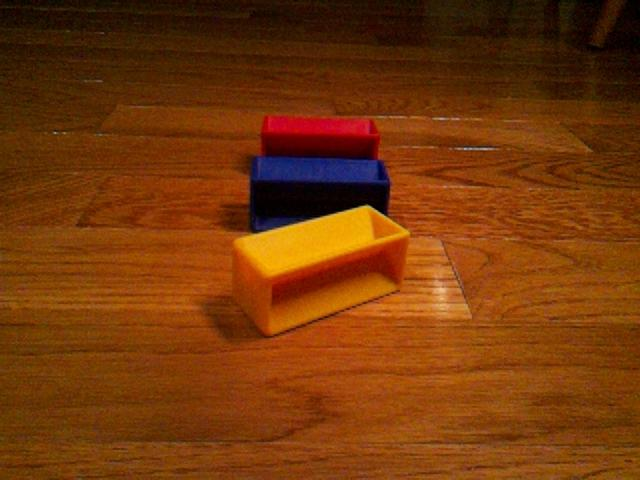blue: (249, 154, 392, 232)
red: (260, 113, 381, 160)
yellow: (231, 203, 411, 338)
